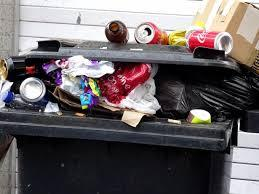trash: (1, 54, 252, 137), (186, 0, 259, 67), (161, 19, 257, 64), (132, 14, 168, 49), (95, 16, 134, 47)
trash_can_overflow: (1, 2, 259, 194)
